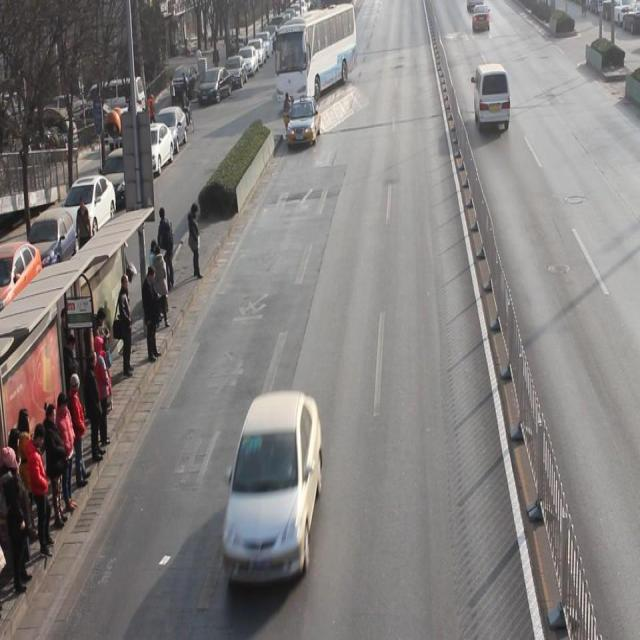car: (224, 388, 324, 586), (286, 96, 322, 146)
truck: (474, 63, 512, 134)
van: (274, 8, 356, 108)
